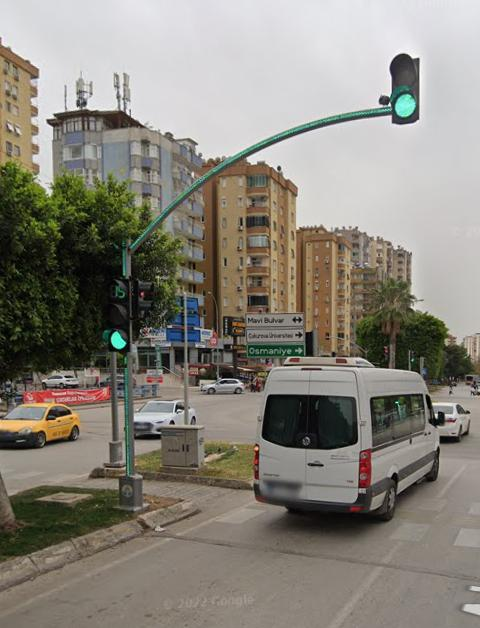greenlight: (388, 52, 423, 124), (99, 278, 131, 352)
